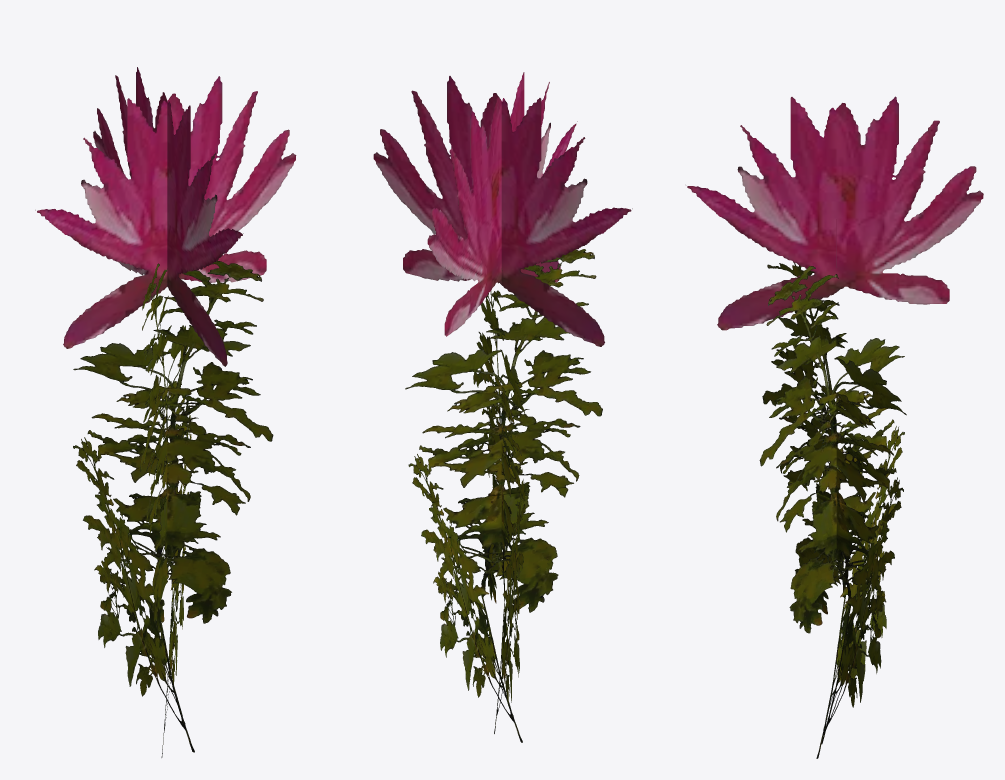
File: KM_VOB_SINGLEFLOWER_01.glb
3 renders of one model, left to right at view 1: azimuth 30°, elevation 25°; view 2: azimuth 150°, elevation 25°; view 3: azimuth 270°, elevation 25°, orthographic.
Visible parts, largest first — view 1: Mesh; view 2: Mesh; view 3: Mesh.
Boxes of the visible parts, left/top/right/bottom form: Mesh: left=35, top=67, right=296, bottom=757; Mesh: left=373, top=72, right=632, bottom=742; Mesh: left=687, top=96, right=983, bottom=758.
Bounding box in the file's own units: 0.1392 × 0.3345 × 0.1392.
Materials: 2 (2 with a texture image).
